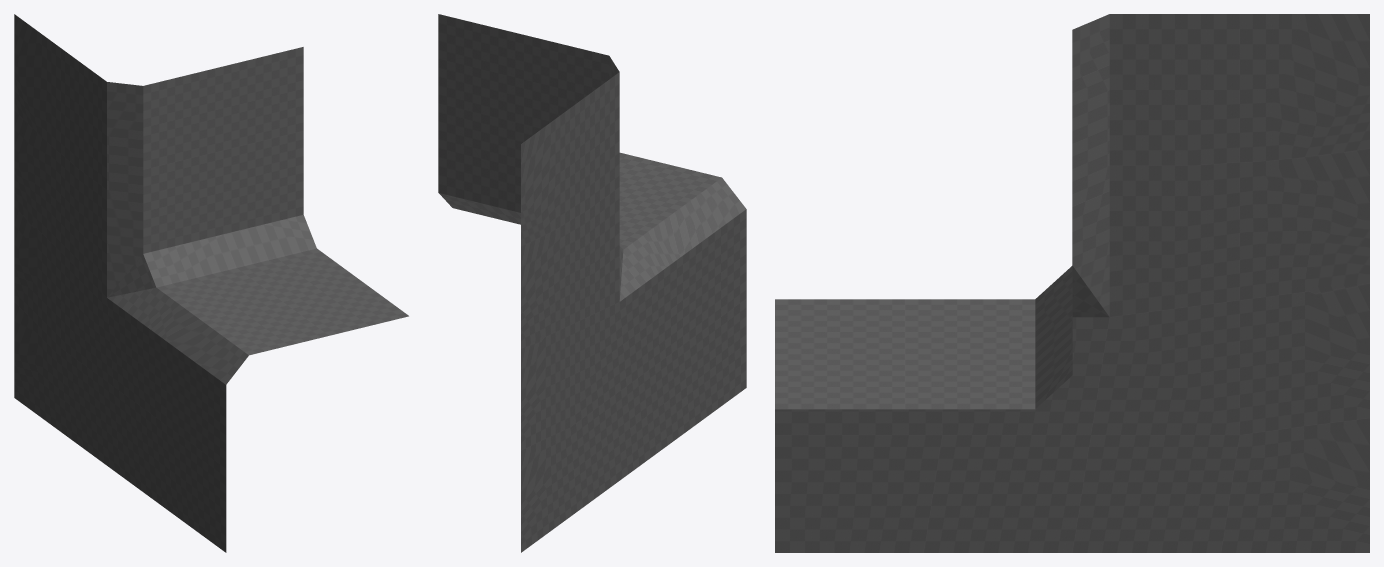
3 renders of one model, left to right at view 1: azimuth 30°, elevation 25°; view 2: azimuth 150°, elevation 25°; view 3: azimuth 270°, elevation 25°, orthographic. The views are drawn at different scales.
Visible parts, largest first — view 1: 0; view 2: 0; view 3: 0.
Boxes of the visible parts, x1=… form: 0: x1=14, y1=14, x2=408, y2=552; 0: x1=438, y1=14, x2=746, y2=552; 0: x1=775, y1=14, x2=1369, y2=552.
Bounding box in the file's own units: 2 × 4 × 4.
1 material, 1 textured.
